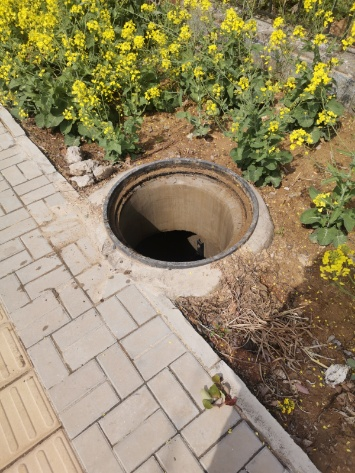well: (102, 156, 261, 269)
